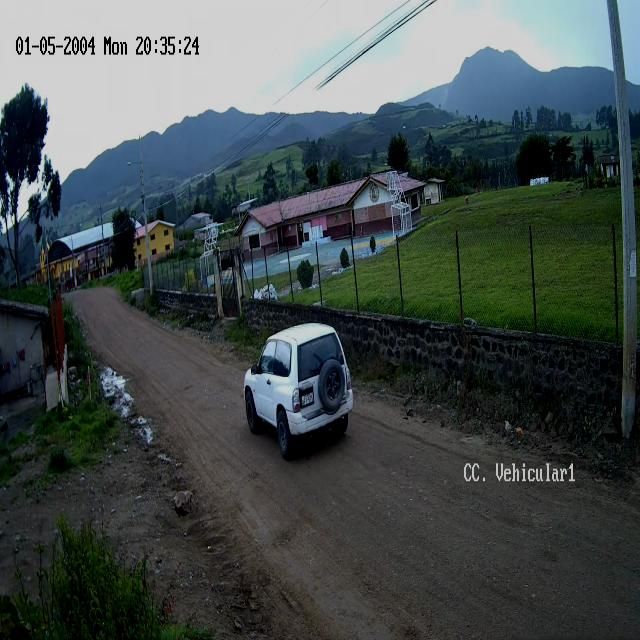SUV: (242, 324, 354, 462)
